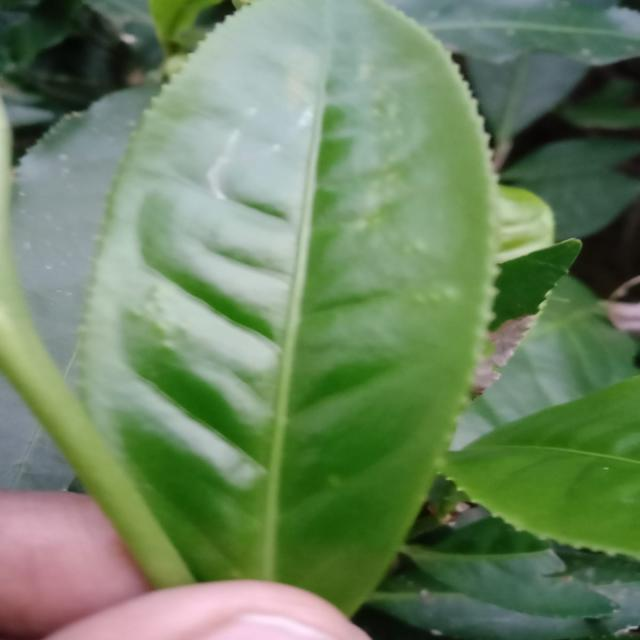Category C(4-7 days): (68, 1, 513, 640)
